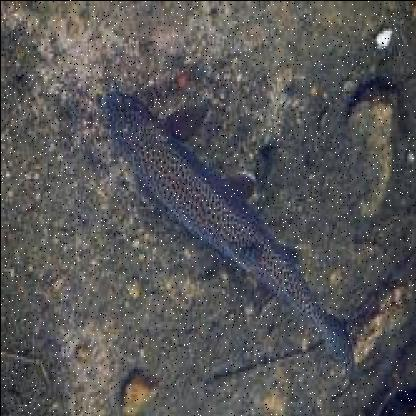fish: (109, 91, 357, 376)
